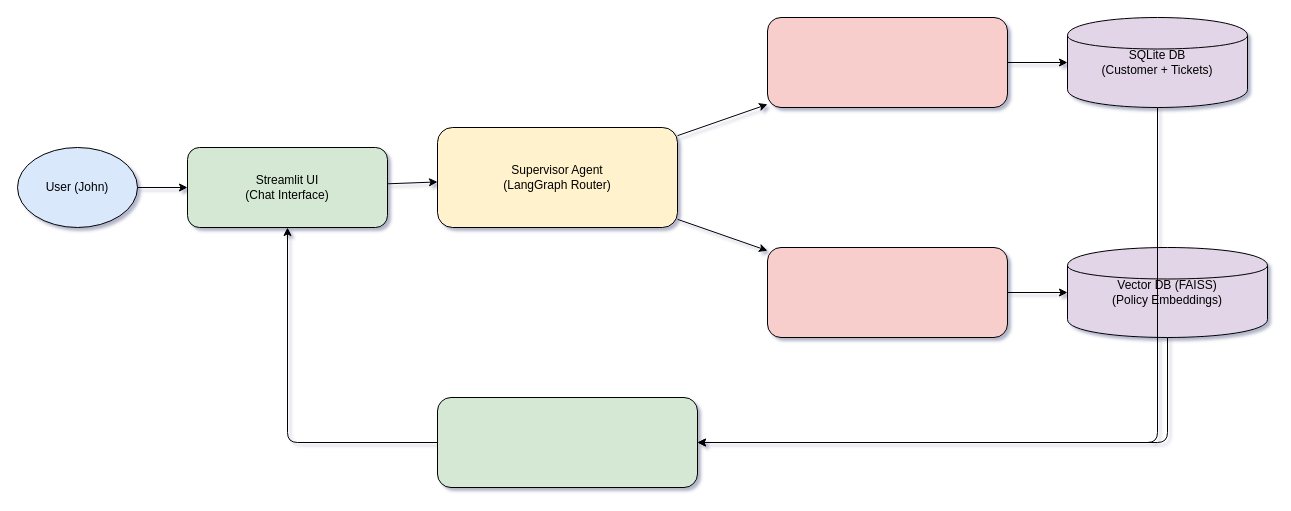
Image size: 1291x511. Some labels were removed from this diagram. Each missing label, with the centre of its shape:
"Final Synthesized Response (LLM Output)" belongs at point 567,442.
"RAG Agent (Document Understanding)" belongs at point 887,292.
"SQL Agent (Structured Data Retrieval)" belongs at point 887,62.
